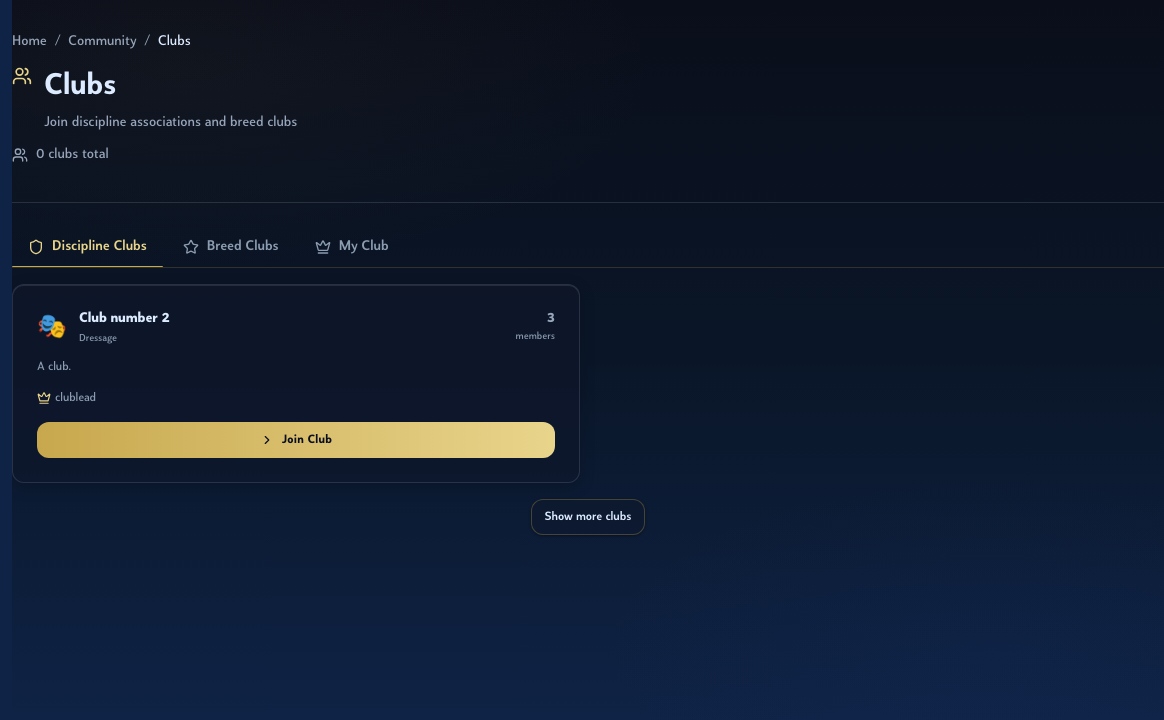
Scenario: ClubsPage paging (Equoria-uob0o) › keeps the clubs shown and says so when the next page fails
Click the button "Show more clubs": coordinates (588, 516) [532, 498, 645, 534]
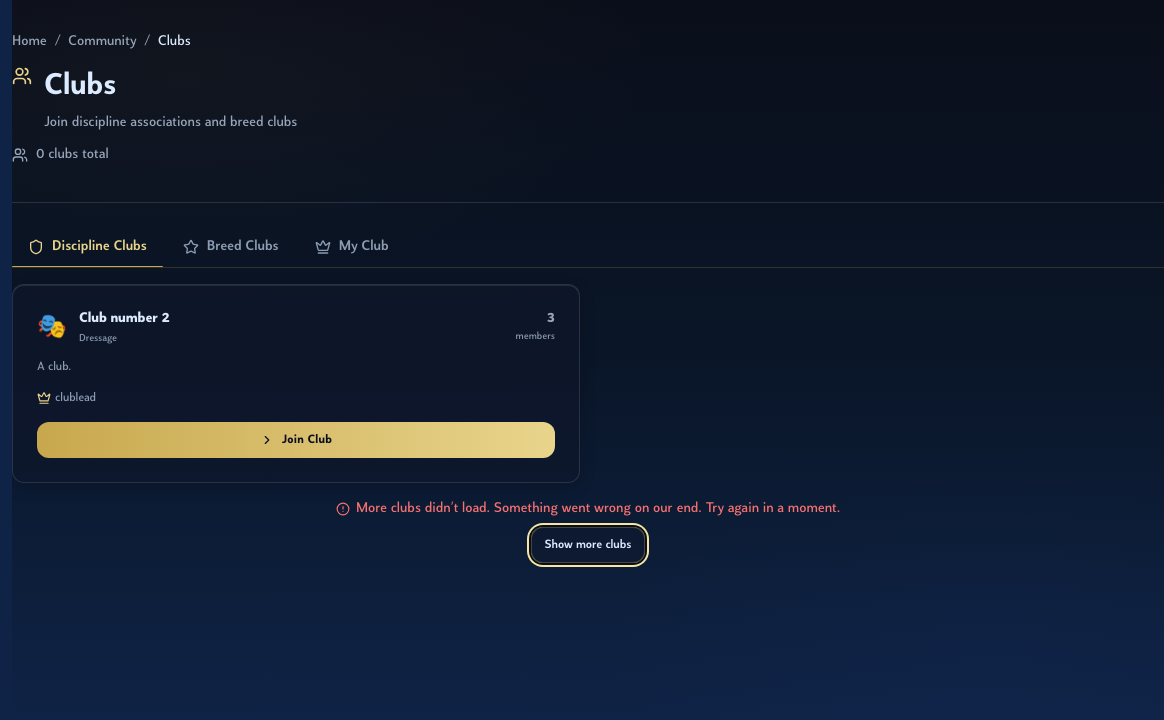
Expected: the heading "Club number 2" is shown, [79, 309, 170, 329]
Now the text "More clubs didn't load" is shown, box [356, 500, 840, 516]
